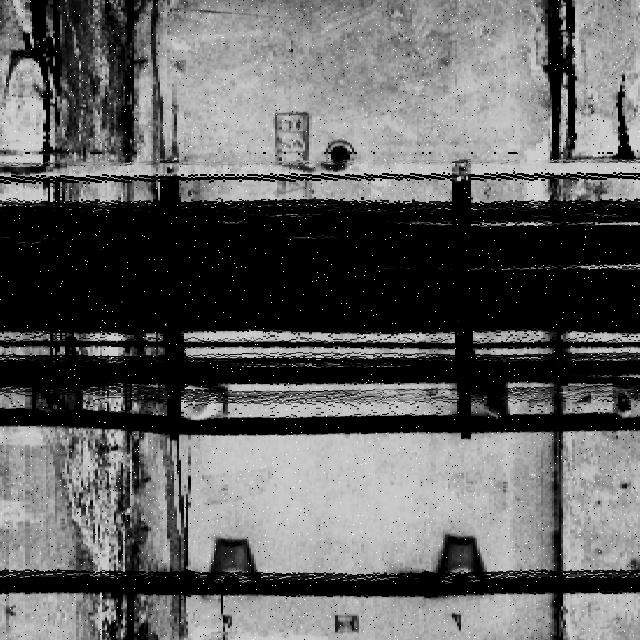leakage: (46, 330, 188, 639), (25, 0, 174, 203), (536, 1, 591, 157)
